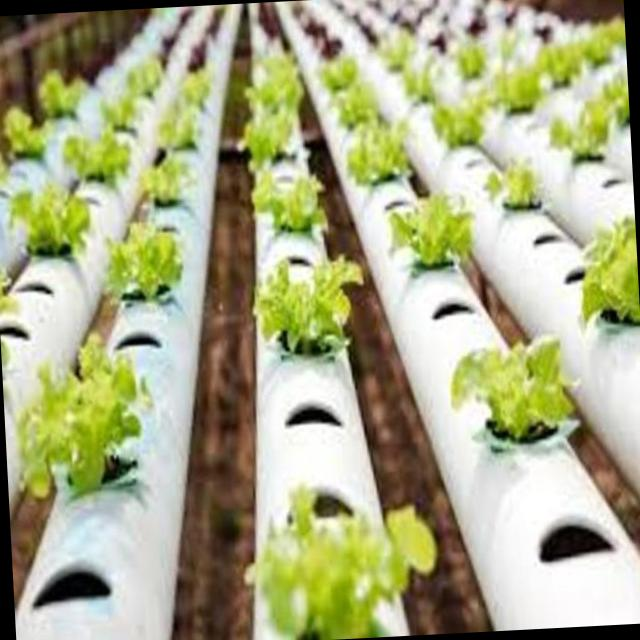Lettuce-Ready-to-Harvest: (255, 487, 436, 640), (19, 341, 142, 497), (450, 335, 578, 454), (256, 259, 360, 354), (108, 223, 182, 301), (15, 185, 91, 255), (395, 196, 470, 265), (347, 119, 410, 185), (254, 173, 324, 232), (64, 125, 130, 184), (550, 98, 612, 160), (588, 253, 640, 325), (247, 54, 302, 113), (247, 114, 298, 167), (494, 66, 545, 114), (38, 70, 87, 118), (333, 81, 381, 129), (489, 162, 538, 208), (581, 18, 626, 67), (4, 108, 47, 158), (433, 105, 484, 147), (141, 157, 184, 206), (160, 100, 201, 150), (537, 44, 581, 87), (124, 57, 163, 98), (378, 31, 416, 72), (101, 91, 138, 130), (402, 61, 435, 103), (602, 77, 630, 126), (322, 57, 358, 94), (180, 67, 211, 109), (456, 43, 487, 78), (497, 28, 517, 64), (0, 153, 8, 184)
